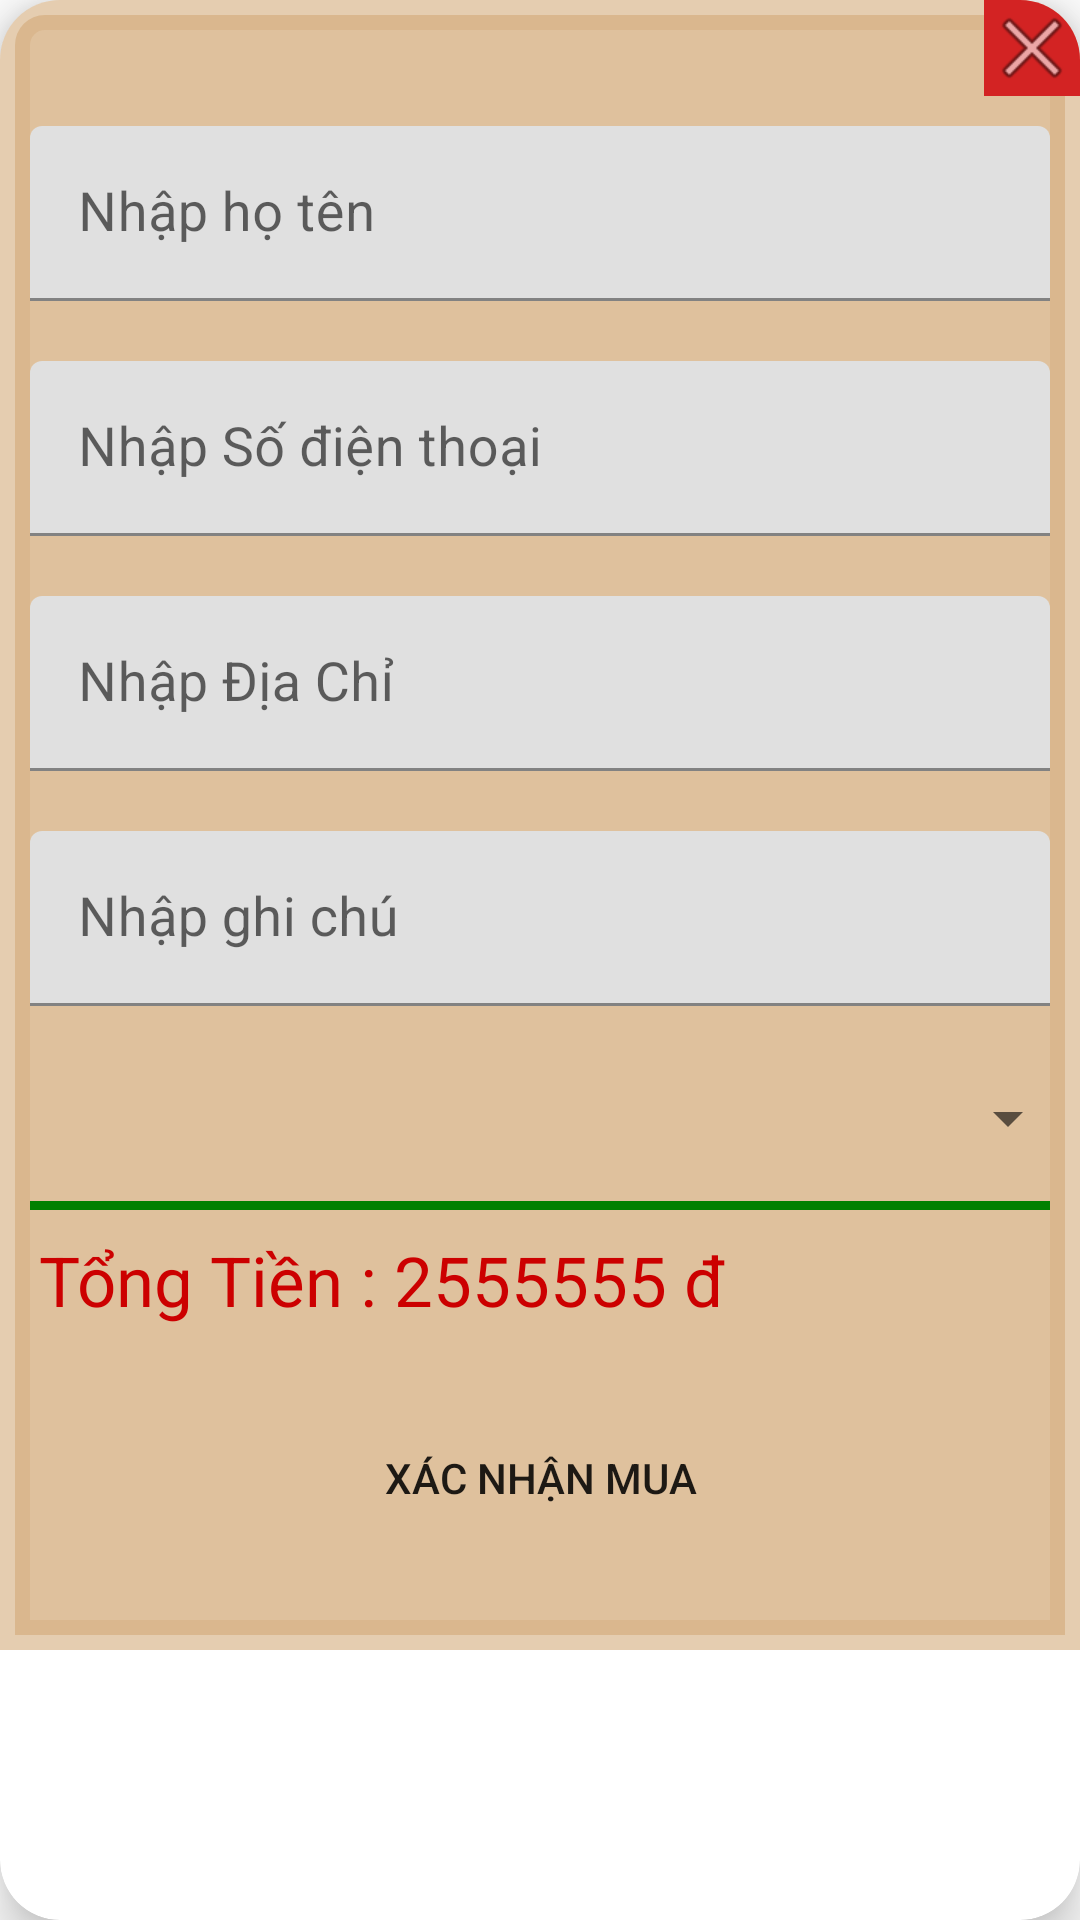

Icon bounding boxes for this 1080px x 1920px phone screenshot, format [x1=x1, y1=y1, x2=x2, y2=y2]:
close clear cancel: [x1=984, y1=0, x2=1080, y2=96]
